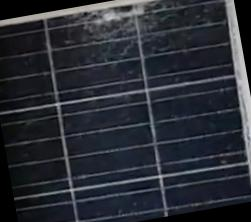Crack: (67, 0, 175, 58)
